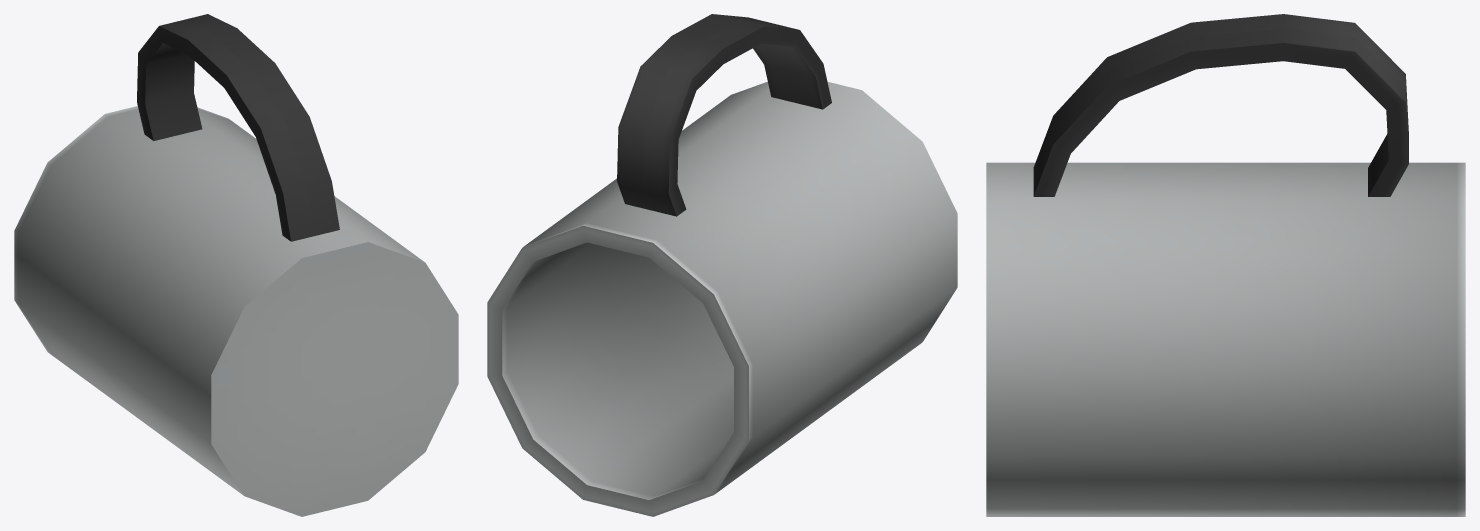
File: Cap001.fbx
The picture shows the model from 3 angles, left to right: view 1: azimuth 30°, elevation 25°; view 2: azimuth 150°, elevation 25°; view 3: azimuth 270°, elevation 25°; orthographic projection. The views are drawn at different scales.
Visible parts, largest first — view 1: Cap001; view 2: Cap001; view 3: Cap001.
Boxes of the visible parts, bbox=[...] form: Cap001: bbox=[14, 14, 458, 516]; Cap001: bbox=[487, 14, 957, 516]; Cap001: bbox=[986, 14, 1465, 516].
Size of the model in its own units: 0.0869 by 0.1294 by 0.12.
